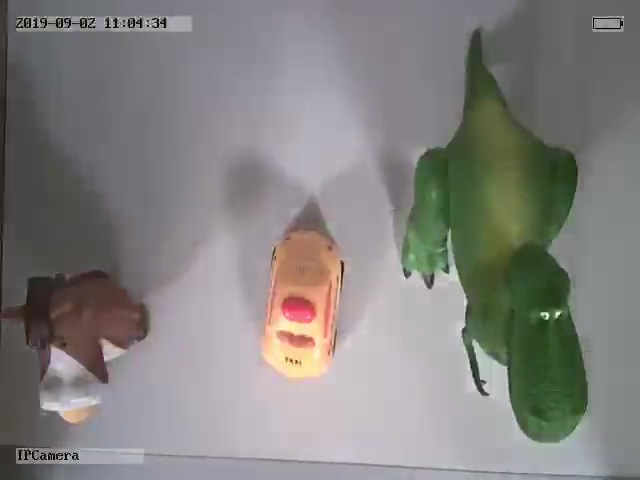car: (259, 227, 346, 381)
horse: (5, 272, 150, 422)
rex: (401, 47, 588, 442)
